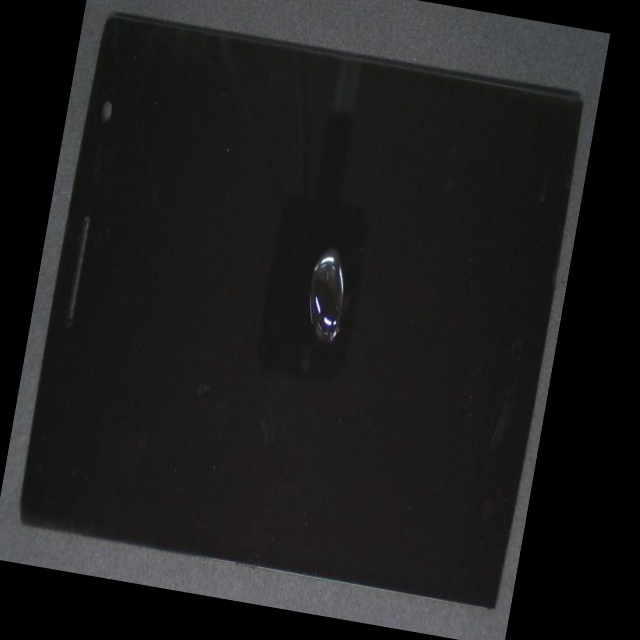oil: (187, 99, 504, 400)
